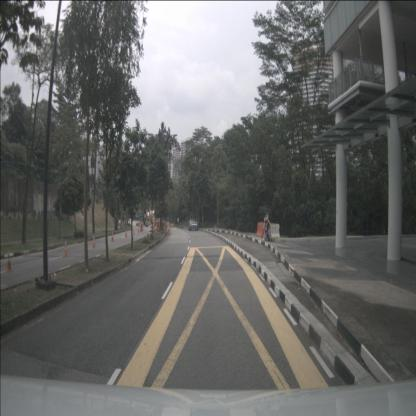barrier: (266, 224, 280, 238), (257, 222, 265, 237), (157, 221, 166, 230), (140, 223, 143, 231)
cone: (5, 249, 13, 272), (62, 240, 69, 257), (92, 234, 96, 249), (111, 230, 114, 242), (125, 228, 128, 237), (133, 227, 135, 235)
